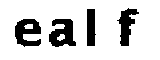a: (47, 17, 79, 50)
e: (12, 18, 43, 51)
f: (116, 5, 140, 50)
l: (82, 4, 103, 53)
